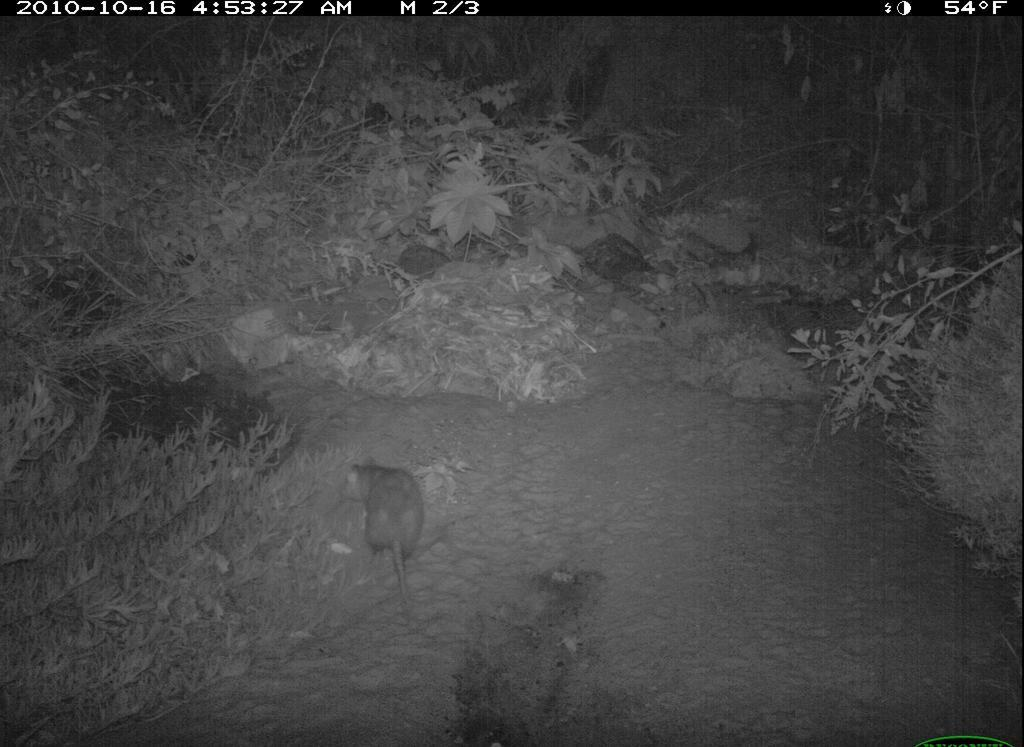opossum: (318, 443, 441, 585)
